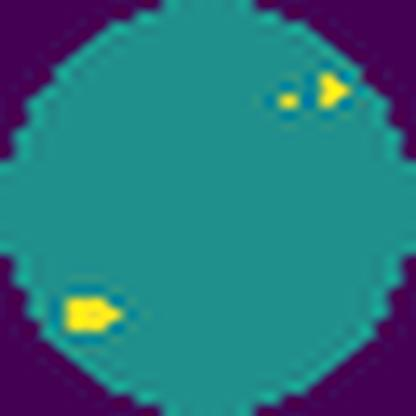Loc: (271, 68, 355, 121), (65, 288, 129, 337)
